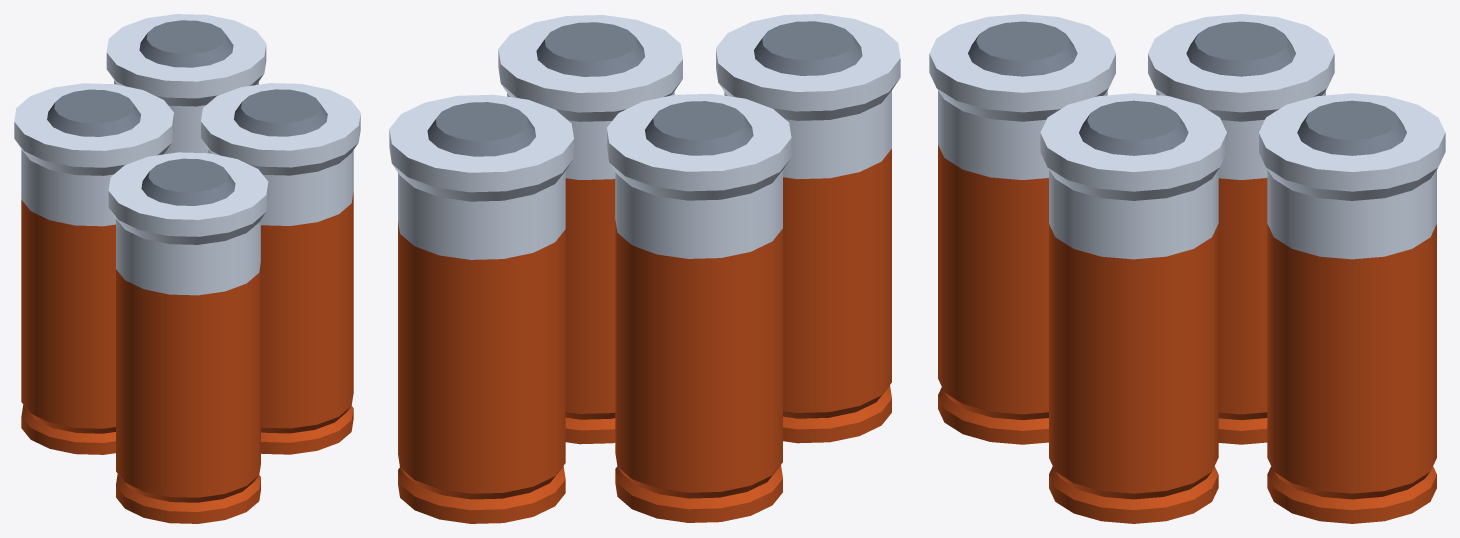
The model's file is shotgun_shells.fbx.
The picture shows the model from 3 angles, left to right: view 1: azimuth 30°, elevation 25°; view 2: azimuth 150°, elevation 25°; view 3: azimuth 270°, elevation 25°; orthographic projection. The views are drawn at different scales.
Visible parts, largest first — view 1: shotgun_shells; view 2: shotgun_shells; view 3: shotgun_shells.
Boxes of the visible parts, x1,y1,x2,y2 form: shotgun_shells: (14,14,360,523); shotgun_shells: (389,14,900,523); shotgun_shells: (929,14,1445,523).
Bounding box in the file's own units: 6.61 × 7.17 × 9.12.
